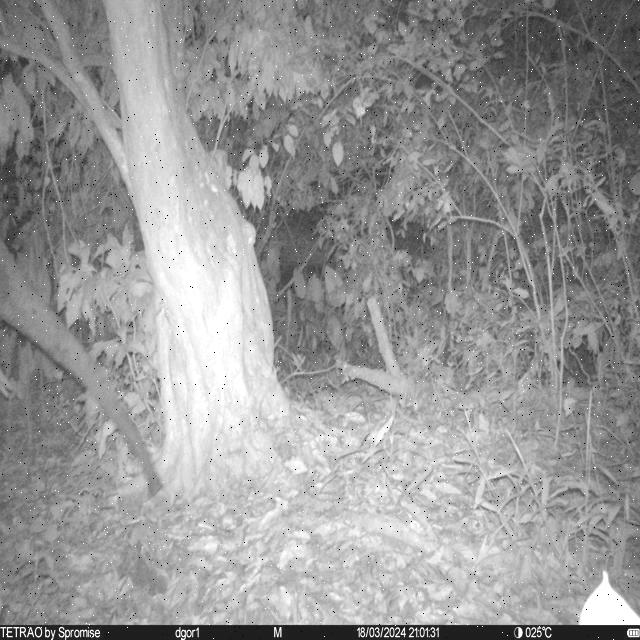elephant: (1, 242, 162, 498)
tusk: (0, 372, 13, 392), (0, 384, 10, 399)
